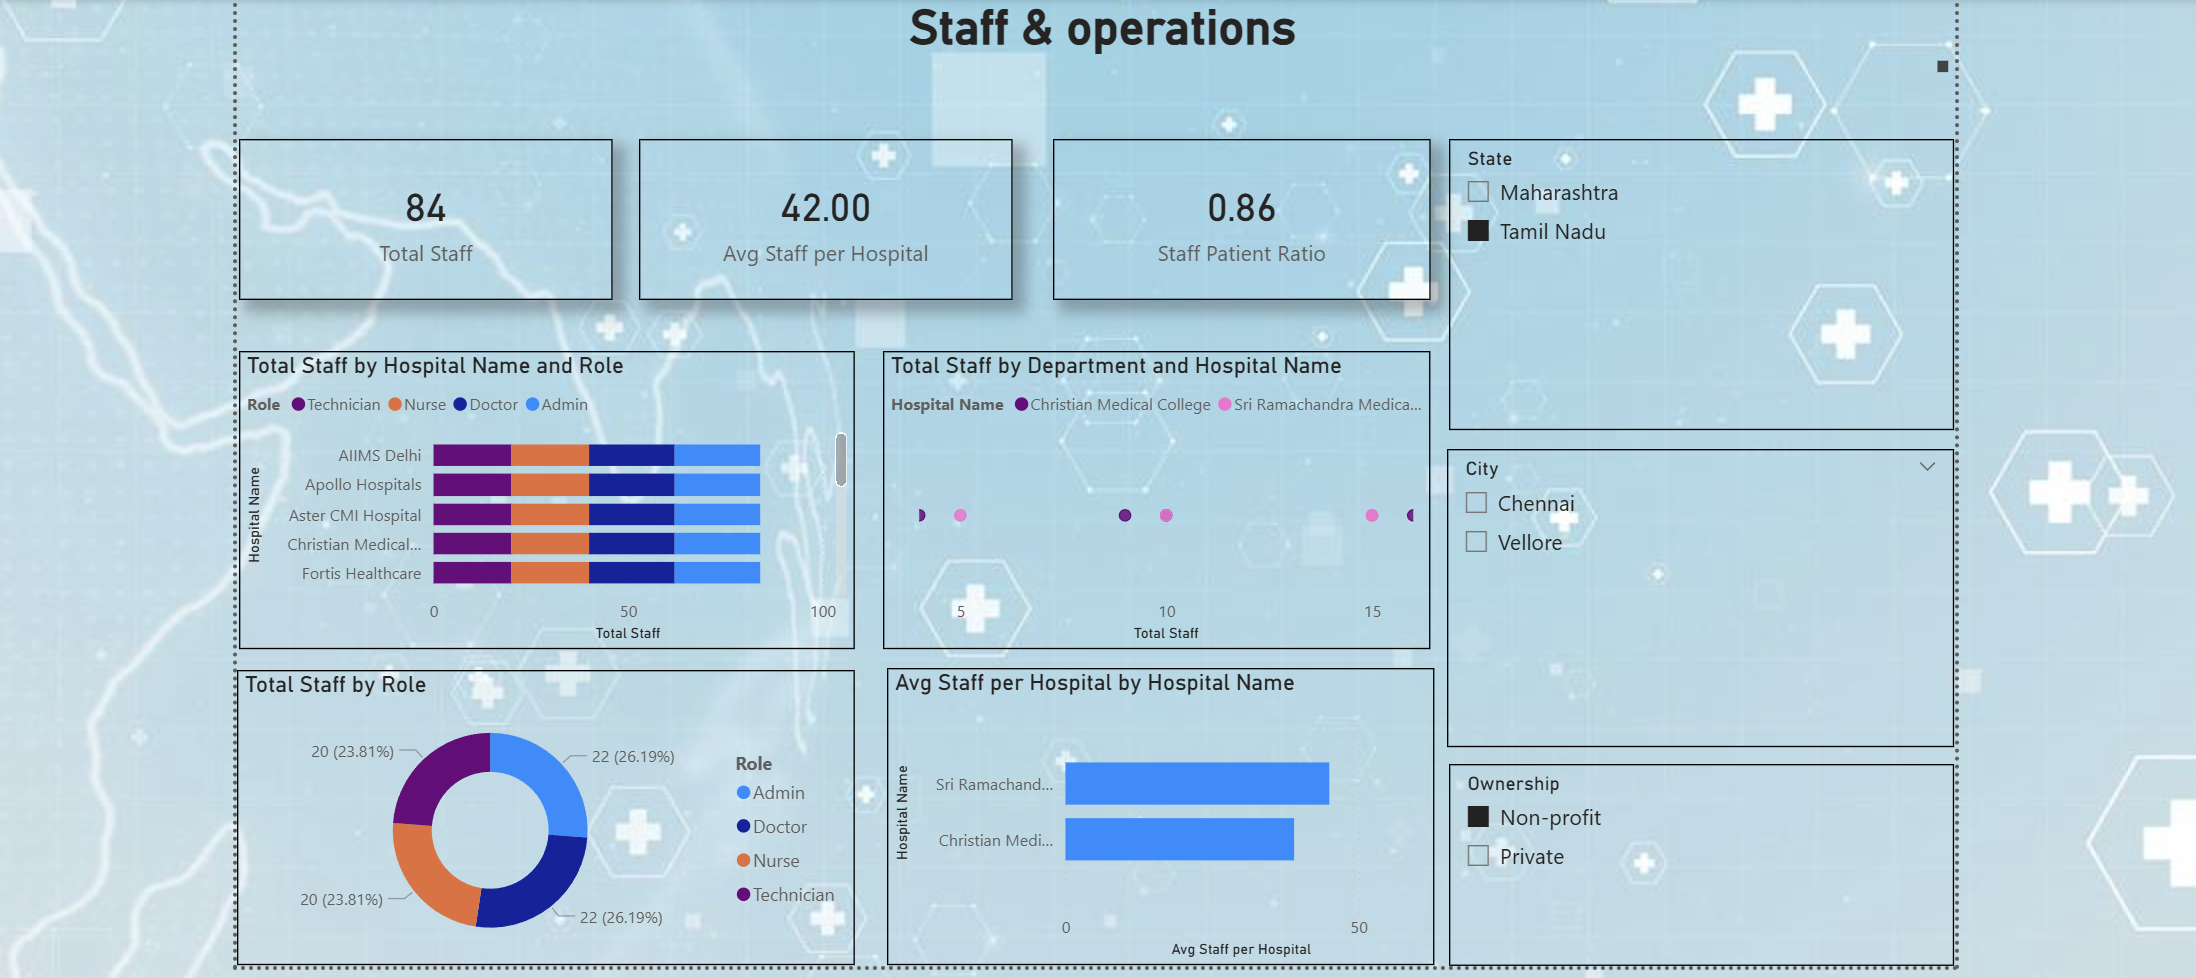

The dashboard page shown, as its layout file describes it:
{"tool":"powerbi","page":{"name":"Staff & operations","canvas":[1280,720],"ordinal":4},"visuals":[{"type":"card","fields":{"Values":["1_Patient_Dataset.Total Staff"]},"box":[1.6,104.4,278.5,120.2],"z":0},{"type":"card","fields":{"Values":["1_Patient_Dataset.Avg Staff per Hospital"]},"box":[299,104.4,278.5,120.2],"z":1000},{"type":"card","fields":{"Values":["1_Patient_Dataset.Staff Patient Ratio"]},"box":[607.6,104.4,281.6,120.2],"z":2000},{"type":"barChart","fields":{"Category":["1_Patient_Dataset.Hospital Name"],"Y":["1_Patient_Dataset.Total Staff"],"Series":["3_Staff_Dataset.Role"]},"box":[1.6,262.6,458.8,221.5],"z":3000},{"type":"donutChart","fields":{"Category":["3_Staff_Dataset.Role"],"Y":["1_Patient_Dataset.Total Staff"]},"box":[0,500,460.4,219.9],"z":4000},{"type":"scatterChart","fields":{"Category":["3_Staff_Dataset.Department"],"Series":["3_Staff_Dataset.Hospital Name"],"X":["1_Patient_Dataset.Total Staff"]},"box":[481,262.6,408.2,221.5],"z":5000},{"type":"clusteredBarChart","fields":{"Category":["2_Hospital_Info.Hospital Name"],"Y":["1_Patient_Dataset.Avg Staff per Hospital"]},"box":[484.2,498.4,408.2,221.5],"z":5001},{"type":"slicer","fields":{"Values":["2_Hospital_Info.State"]},"box":[903.4,104.4,376.6,216.8],"z":5002},{"type":"slicer","fields":{"Values":["2_Hospital_Info.City"]},"box":[901.9,335.4,378.1,221.5],"z":5003},{"type":"slicer","fields":{"Values":["2_Hospital_Info.Ownership"]},"box":[903.4,569.6,376.6,150.3],"z":5004},{"type":"textbox","title":"Staff & operations","box":[9.9,0,1270.1,59.6],"z":5005}]}

Visuals, with their boxes in screenshot pixels (x1, y1, x2, y2):
card - 1_Patient_Dataset.Total Staff: [x1=231, y1=134, x2=604, y2=295]
card - 1_Patient_Dataset.Avg Staff per Hospital: [x1=629, y1=134, x2=1002, y2=295]
card - 1_Patient_Dataset.Staff Patient Ratio: [x1=1043, y1=134, x2=1420, y2=295]
barChart - 1_Patient_Dataset.Hospital Name x 1_Patient_Dataset.Total Staff: [x1=231, y1=346, x2=845, y2=643]
donutChart - 3_Staff_Dataset.Role x 1_Patient_Dataset.Total Staff: [x1=229, y1=664, x2=845, y2=959]
scatterChart - 3_Staff_Dataset.Department x 3_Staff_Dataset.Hospital Name: [x1=873, y1=346, x2=1420, y2=643]
clusteredBarChart - 2_Hospital_Info.Hospital Name x 1_Patient_Dataset.Avg Staff per Hospital: [x1=877, y1=662, x2=1424, y2=959]
slicer - 2_Hospital_Info.State: [x1=1439, y1=134, x2=1943, y2=425]
slicer - 2_Hospital_Info.City: [x1=1437, y1=444, x2=1943, y2=740]
slicer - 2_Hospital_Info.Ownership: [x1=1439, y1=757, x2=1943, y2=959]
"Staff & operations" textbox: [x1=242, y1=0, x2=1943, y2=74]
